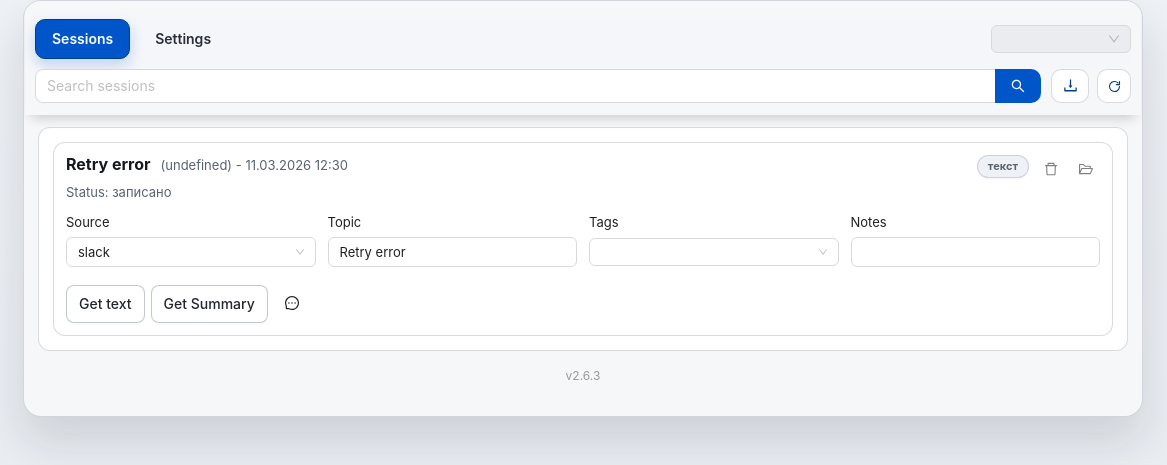
Scenario: App main window › shows summary error message for session
The width and height of the screenshot is (1167, 465).
Click the button named "Refresh sessions".
click(1114, 86)  # box [1097,69,1131,103]
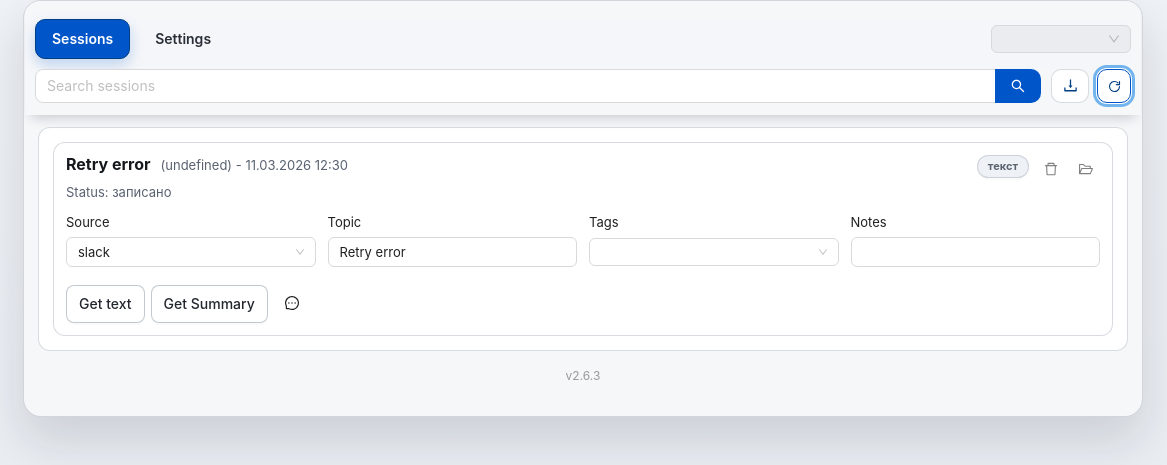
Click the button "Get Summary".
click(209, 304)  # box [151,285,268,323]
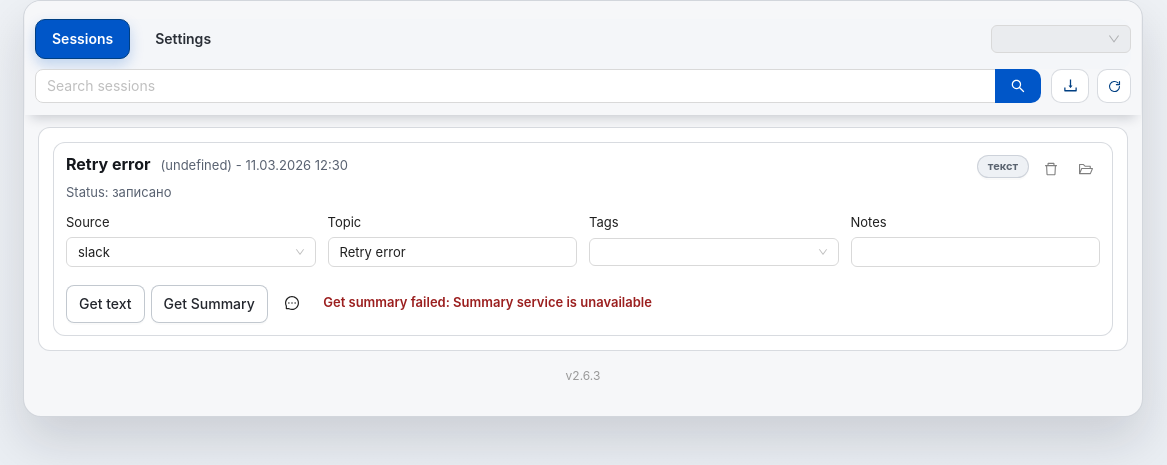
Expected: the text "Get summary failed: Summary service is unavailable" is shown, [323,292,652,313]
